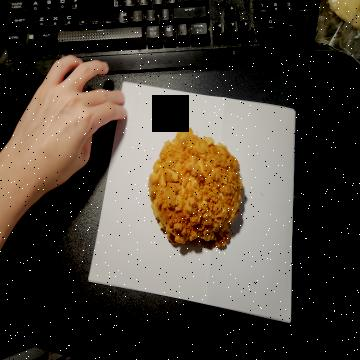soboru_bread: (148, 126, 244, 255)
